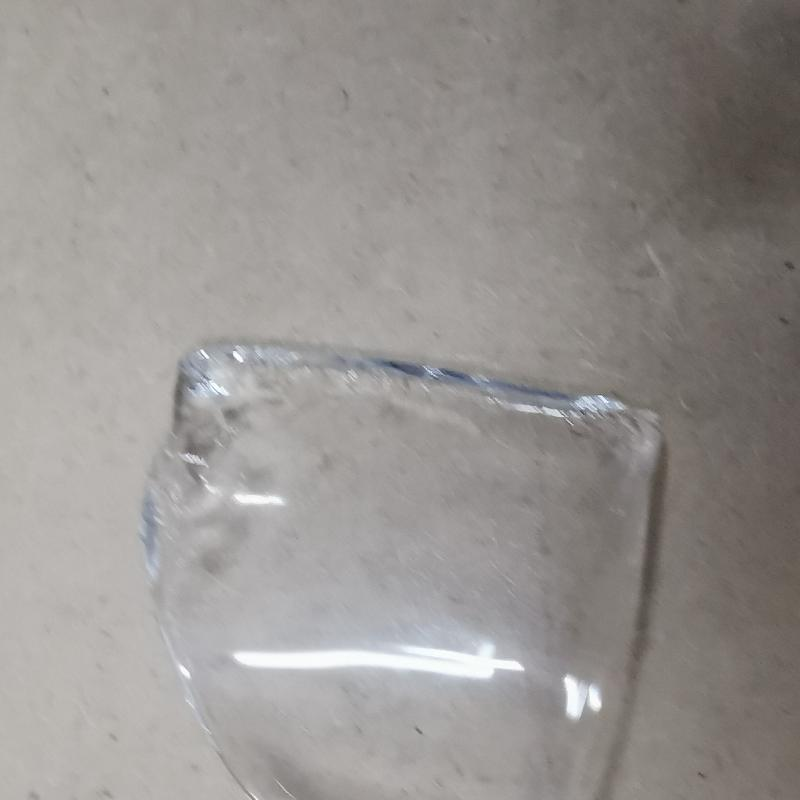glass: (139, 331, 669, 800)
